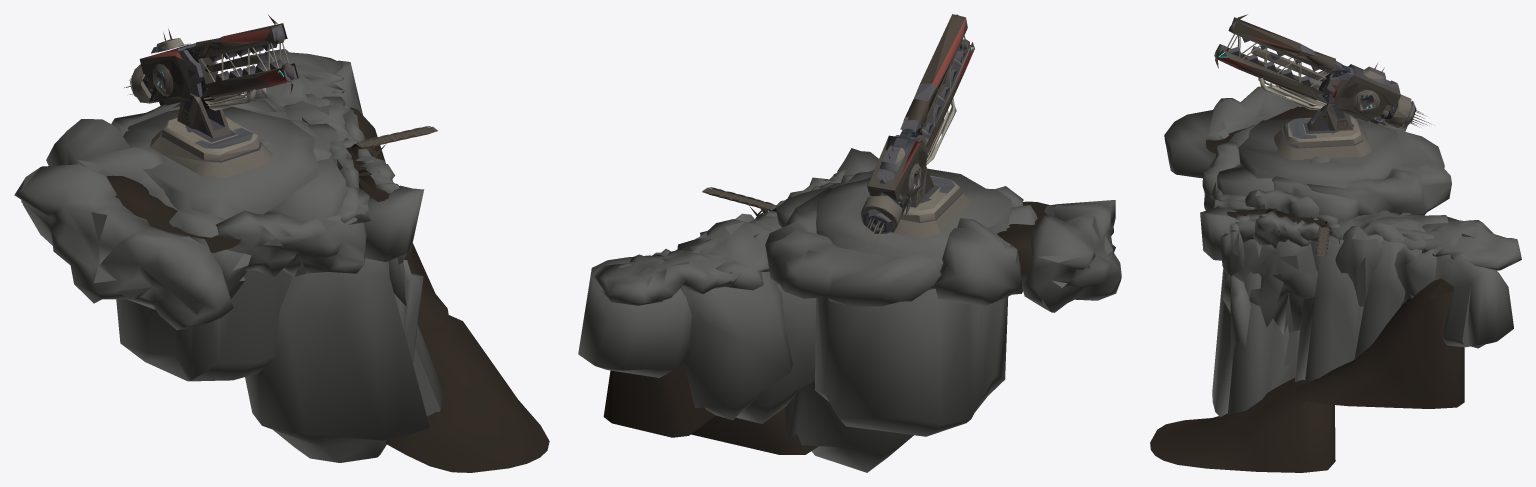
3 renders of one model, left to right at view 1: azimuth 30°, elevation 25°; view 2: azimuth 150°, elevation 25°; view 3: azimuth 270°, elevation 25°, orthographic. The views are drawn at different scales.
Parts seen in each view (by area): view 1: chunk_q00_low; view 2: chunk_q00_low; view 3: chunk_q00_low.
Part boxes in pixels (x1,y1,x2,y2): chunk_q00_low: (14,15,549,472); chunk_q00_low: (578,14,1121,472); chunk_q00_low: (1150,14,1521,472).
Size of the model in its own units: 44.11 by 43.71 by 39.19.
4 materials, 3 textured.
